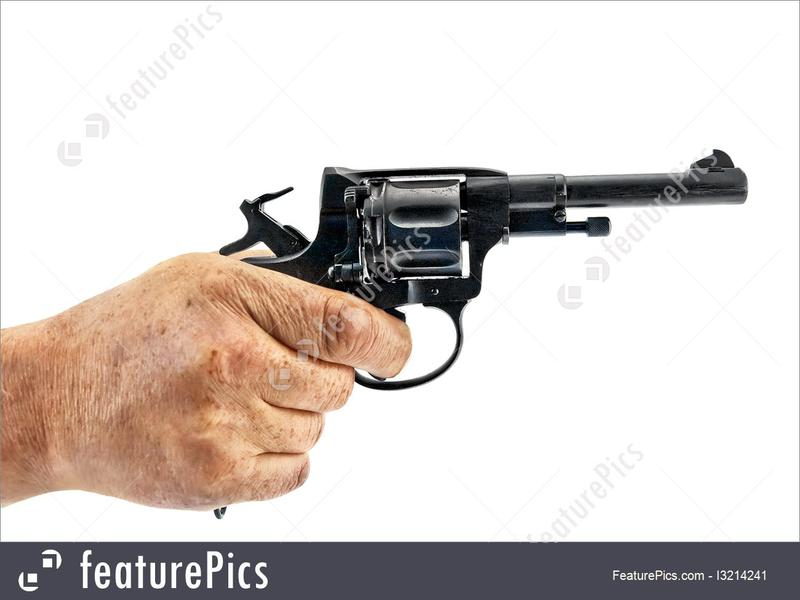Revolver: (217, 124, 767, 394)
